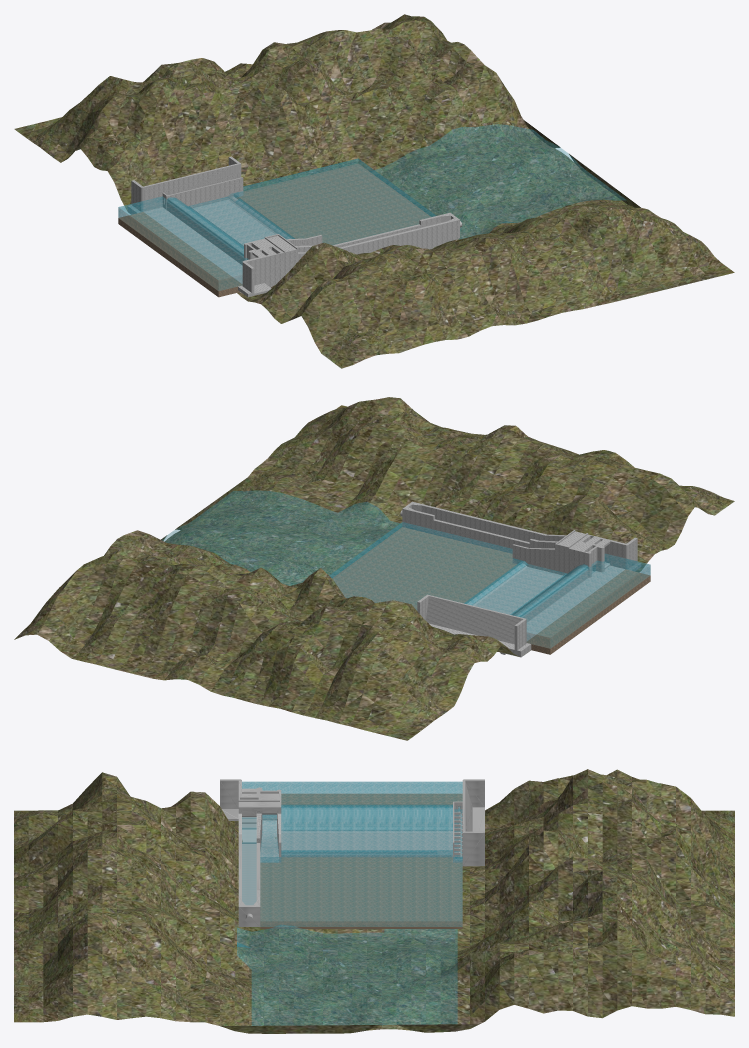
The picture shows the model from 3 angles, top to bottom: view 1: azimuth 30°, elevation 25°; view 2: azimuth 150°, elevation 25°; view 3: azimuth 270°, elevation 25°; orthographic projection. The views are drawn at different scales.
Visible parts, largest first — view 1: Mesh23_Color_C04_0, Mesh17_Water_Pool_Light_0, Mesh16_Water_Pool_Light_0, Mesh15_Groundcover_River_Rock_4_inch_0, Mesh20_Water_Pool_Light_0, Mesh14_Concrete_Form_4x8_0, Mesh6_Concrete_Form_4x8_0, Mesh12_Groundcover_River_Rock_4_inch_0, Mesh21_Water_Pool_Light_0, Mesh8_Concrete_Form_4x8_0, Mesh9_Concrete_Form_4x8_0, Mesh3_Concrete_Form_4x8_0 (+2 smaller); view 2: Mesh23_Color_C04_0, Mesh17_Water_Pool_Light_0, Mesh16_Water_Pool_Light_0, Mesh15_Groundcover_River_Rock_4_inch_0, Mesh14_Concrete_Form_4x8_0, Mesh20_Water_Pool_Light_0, Mesh6_Concrete_Form_4x8_0, Mesh12_Groundcover_River_Rock_4_inch_0, Mesh21_Water_Pool_Light_0, Mesh8_Concrete_Form_4x8_0, Mesh9_Concrete_Form_4x8_0, Mesh3_Concrete_Form_4x8_0 (+2 smaller); view 3: Mesh23_Color_C04_0, Mesh17_Water_Pool_Light_0, Mesh16_Water_Pool_Light_0, Mesh15_Groundcover_River_Rock_4_inch_0, Mesh20_Water_Pool_Light_0, Mesh14_Concrete_Form_4x8_0, Mesh19_Water_Pool_Light_0, Mesh3_Concrete_Form_4x8_0, Mesh21_Water_Pool_Light_0, Mesh8_Concrete_Form_4x8_0, Mesh6_Concrete_Form_4x8_0, Mesh12_Groundcover_River_Rock_4_inch_0 (+5 smaller).
Part boxes in pixels (bbox=[...]): Mesh23_Color_C04_0: bbox=[14, 14, 734, 368]; Mesh17_Water_Pool_Light_0: bbox=[373, 124, 625, 239]; Mesh16_Water_Pool_Light_0: bbox=[234, 158, 436, 244]; Mesh15_Groundcover_River_Rock_4_inch_0: bbox=[236, 163, 430, 245]; Mesh20_Water_Pool_Light_0: bbox=[118, 196, 248, 290]; Mesh14_Concrete_Form_4x8_0: bbox=[238, 217, 440, 297]; Mesh6_Concrete_Form_4x8_0: bbox=[128, 156, 243, 214]; Mesh12_Groundcover_River_Rock_4_inch_0: bbox=[118, 212, 242, 297]; Mesh21_Water_Pool_Light_0: bbox=[189, 196, 277, 245]; Mesh8_Concrete_Form_4x8_0: bbox=[192, 199, 274, 246]; Mesh9_Concrete_Form_4x8_0: bbox=[148, 210, 242, 271]; Mesh3_Concrete_Form_4x8_0: bbox=[167, 200, 243, 265]; Mesh23_Color_C04_0: bbox=[14, 397, 734, 740]; Mesh17_Water_Pool_Light_0: bbox=[162, 490, 401, 585]; Mesh16_Water_Pool_Light_0: bbox=[329, 522, 521, 609]; Mesh15_Groundcover_River_Rock_4_inch_0: bbox=[332, 527, 518, 610]; Mesh14_Concrete_Form_4x8_0: bbox=[421, 506, 640, 577]; Mesh20_Water_Pool_Light_0: bbox=[519, 553, 650, 648]; Mesh6_Concrete_Form_4x8_0: bbox=[417, 594, 531, 657]; Mesh12_Groundcover_River_Rock_4_inch_0: bbox=[526, 569, 650, 654]; Mesh21_Water_Pool_Light_0: bbox=[472, 564, 566, 614]; Mesh8_Concrete_Form_4x8_0: bbox=[475, 567, 563, 614]; Mesh9_Concrete_Form_4x8_0: bbox=[526, 578, 607, 639]; Mesh3_Concrete_Form_4x8_0: bbox=[514, 568, 588, 622]; Mesh23_Color_C04_0: bbox=[14, 769, 734, 1033]; Mesh17_Water_Pool_Light_0: bbox=[237, 925, 457, 1025]; Mesh16_Water_Pool_Light_0: bbox=[260, 852, 462, 926]; Mesh15_Groundcover_River_Rock_4_inch_0: bbox=[260, 857, 462, 928]; Mesh20_Water_Pool_Light_0: bbox=[242, 781, 462, 817]; Mesh14_Concrete_Form_4x8_0: bbox=[220, 779, 281, 905]; Mesh19_Water_Pool_Light_0: bbox=[281, 804, 452, 830]; Mesh3_Concrete_Form_4x8_0: bbox=[281, 808, 452, 833]; Mesh21_Water_Pool_Light_0: bbox=[281, 830, 452, 851]; Mesh8_Concrete_Form_4x8_0: bbox=[281, 833, 452, 853]; Mesh6_Concrete_Form_4x8_0: bbox=[453, 779, 484, 866]; Mesh12_Groundcover_River_Rock_4_inch_0: bbox=[281, 793, 462, 805].
Bounding box in the file's own units: 107 × 20.44 × 147.
5 materials, 5 textured.
